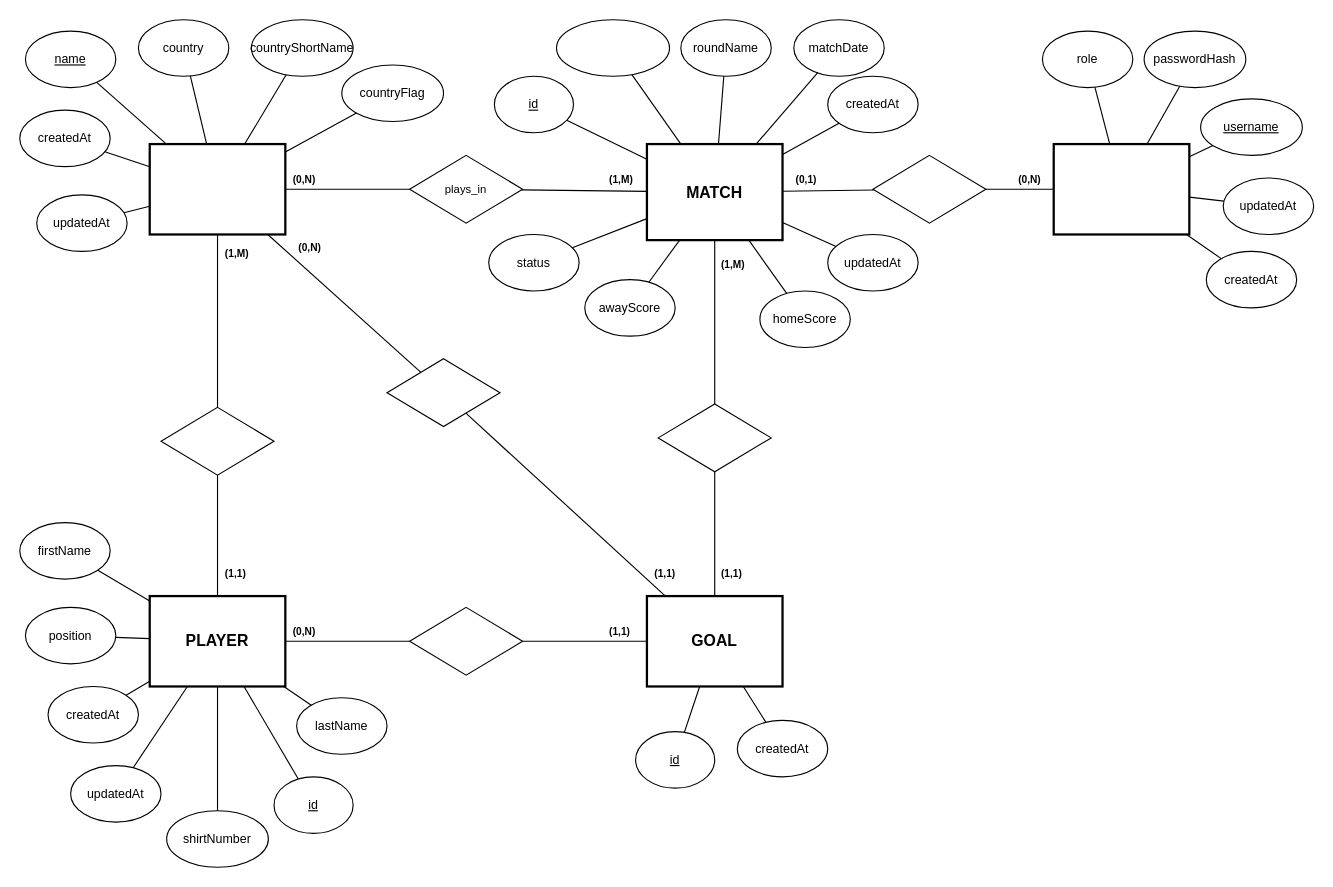
This 1333x887 diagram has some shape labels left out. Each missing label, with the box of its shape:
for_team: (386, 358, 500, 427)
has: (160, 406, 274, 475)
records: (657, 403, 771, 472)
referees: (872, 154, 986, 223)
roundOrderNumber: (555, 19, 670, 76)
scores: (408, 606, 523, 675)
TEAM: (148, 142, 286, 235)
USER: (1052, 142, 1190, 235)
